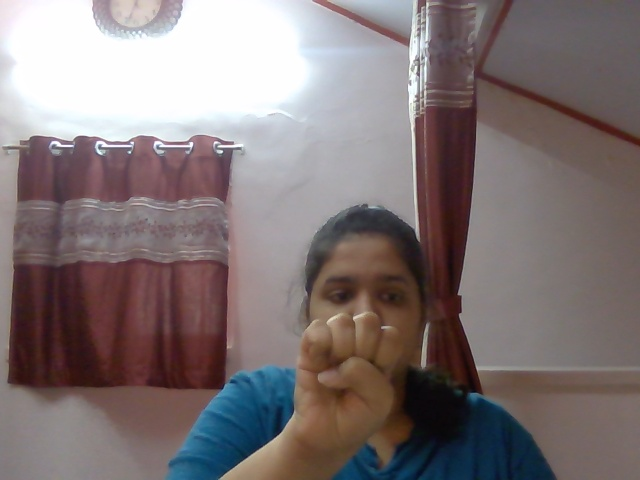e: (270, 302, 424, 452)
